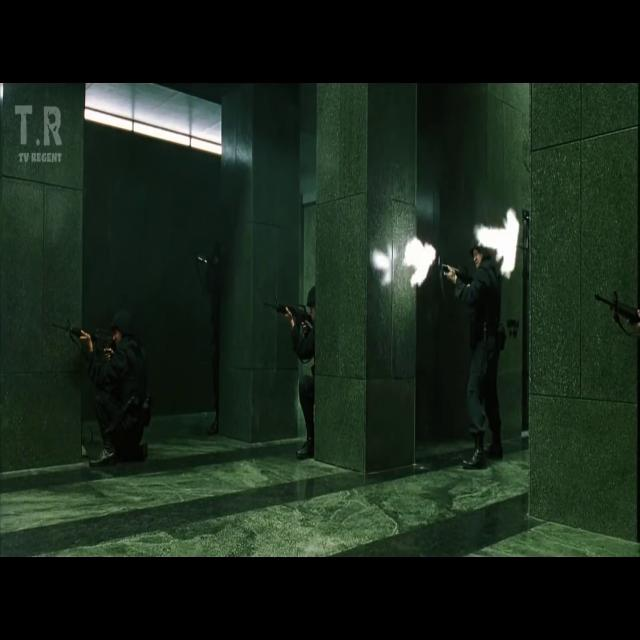long weapon: (51, 307, 118, 368), (420, 243, 478, 310), (592, 285, 638, 363), (264, 294, 314, 337)
